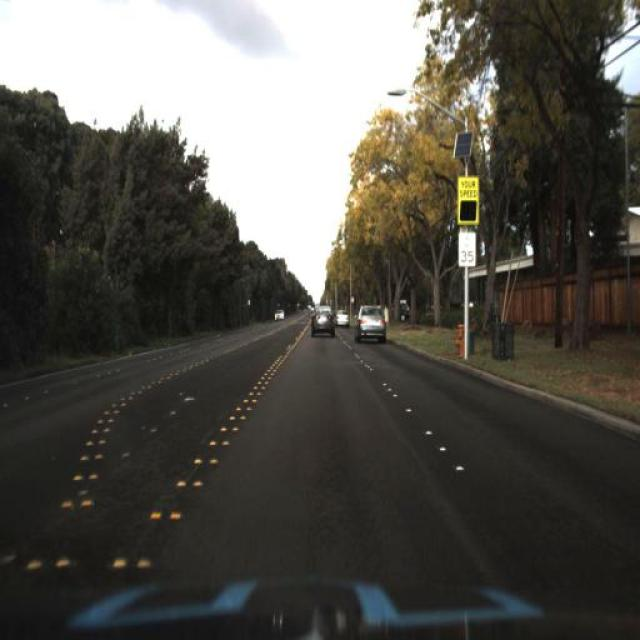car: (351, 300, 391, 344), (306, 296, 340, 345), (272, 302, 287, 330), (334, 307, 350, 332)
